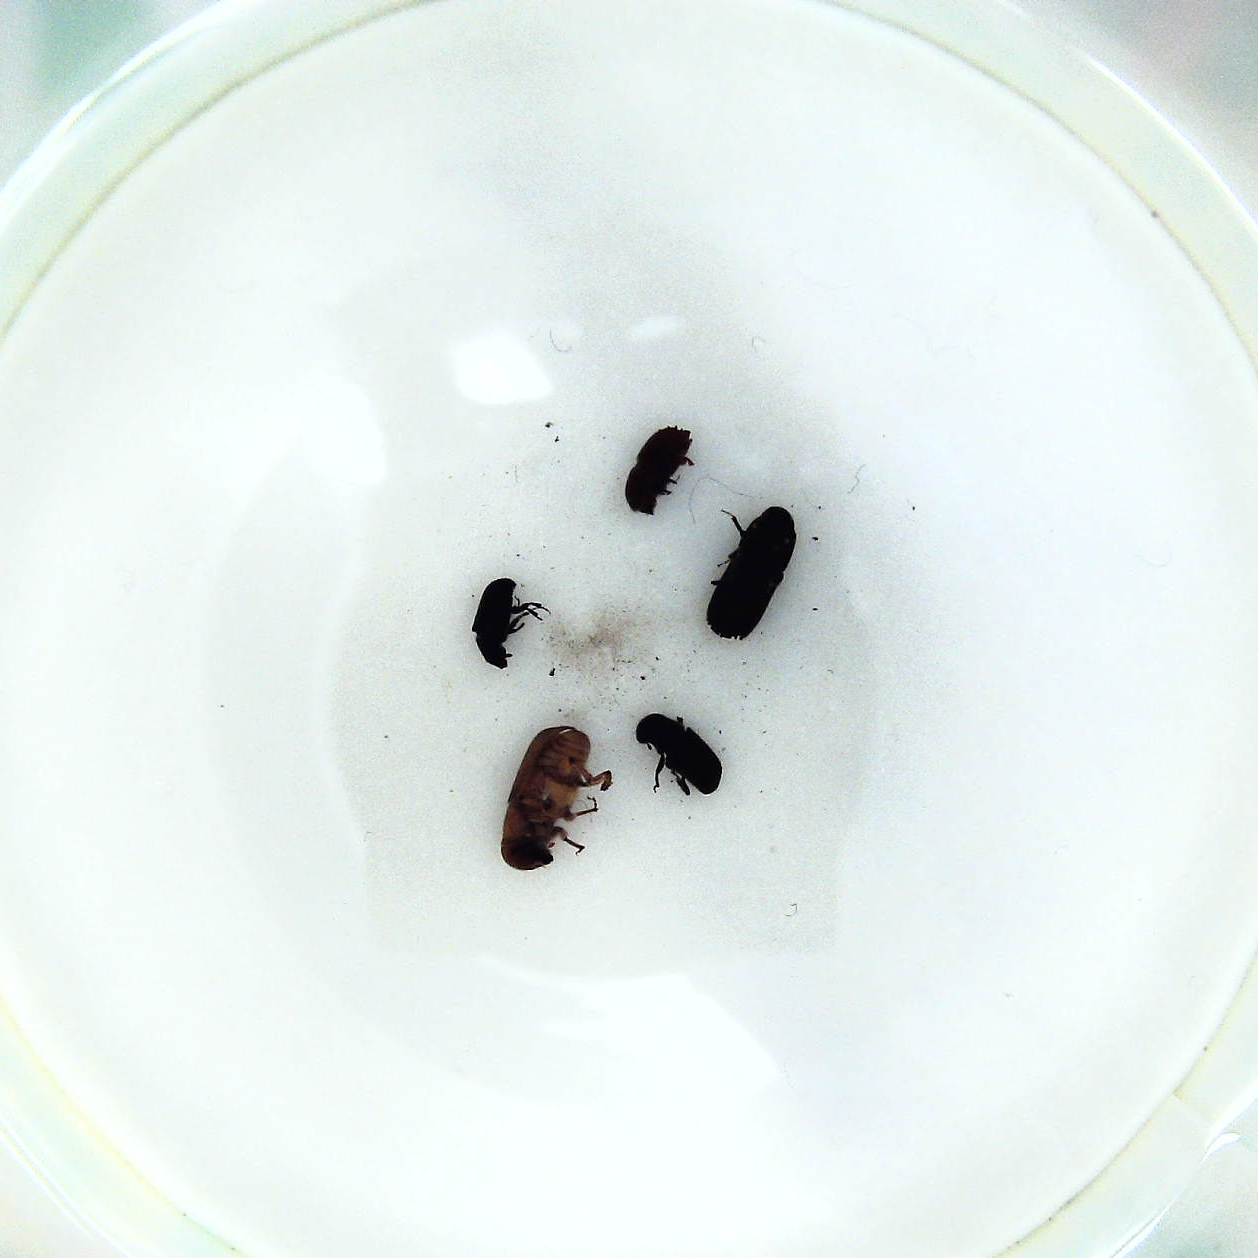Boerner: (705, 500, 805, 646)
Leconte: (498, 722, 620, 876)
armandi: (629, 708, 729, 802)
coleoptera: (467, 573, 551, 673)
linnaeus: (622, 419, 700, 517)
